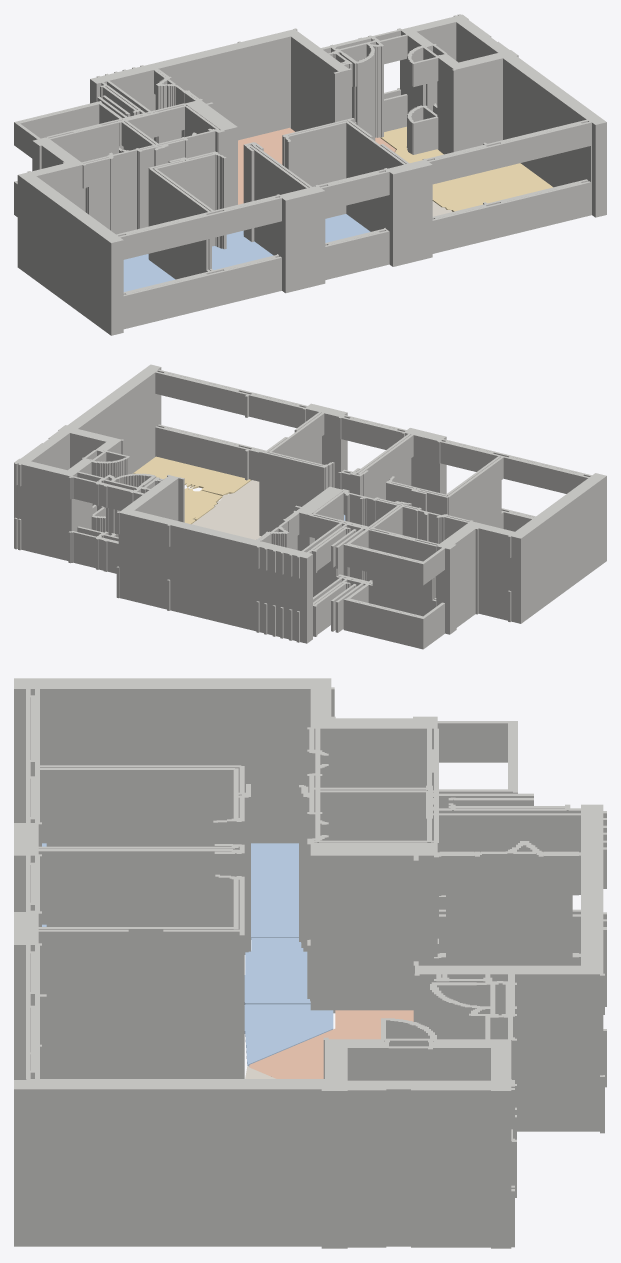
The picture shows the model from 3 angles, top to bottom: view 1: azimuth 30°, elevation 25°; view 2: azimuth 150°, elevation 25°; view 3: azimuth 270°, elevation 25°; orthographic projection. The views are drawn at different scales.
Visible parts, largest first — view 1: walls, room:living:5, room:bedroom:2, room:kitchen:11, room:bedroom:7, room:bedroom:3; view 2: walls, room:other:4, room:living:6, room:living:5; view 3: walls, room:bedroom:7, room:bedroom:2, room:kitchen:11, room:bedroom:3.
Part boxes in pixels (box(x1,y1,x2,y2)): walls: box(14, 14, 606, 335); room:living:5: box(380, 126, 552, 211); room:bedroom:2: box(212, 230, 273, 269); room:kitchen:11: box(238, 127, 395, 204); room:bedroom:7: box(123, 254, 175, 291); room:bedroom:3: box(325, 214, 370, 242); walls: box(14, 364, 606, 649); room:other:4: box(192, 480, 260, 539); room:living:6: box(133, 456, 250, 496); room:living:5: box(184, 487, 222, 524); walls: box(14, 678, 606, 1248); room:bedroom:7: box(42, 843, 298, 939); room:bedroom:2: box(42, 924, 310, 1004); room:kitchen:11: box(249, 1010, 413, 1078); room:bedroom:3: box(244, 1004, 333, 1066).
Bounding box in the file's own units: 15.74 × 2.8 × 9.56.
